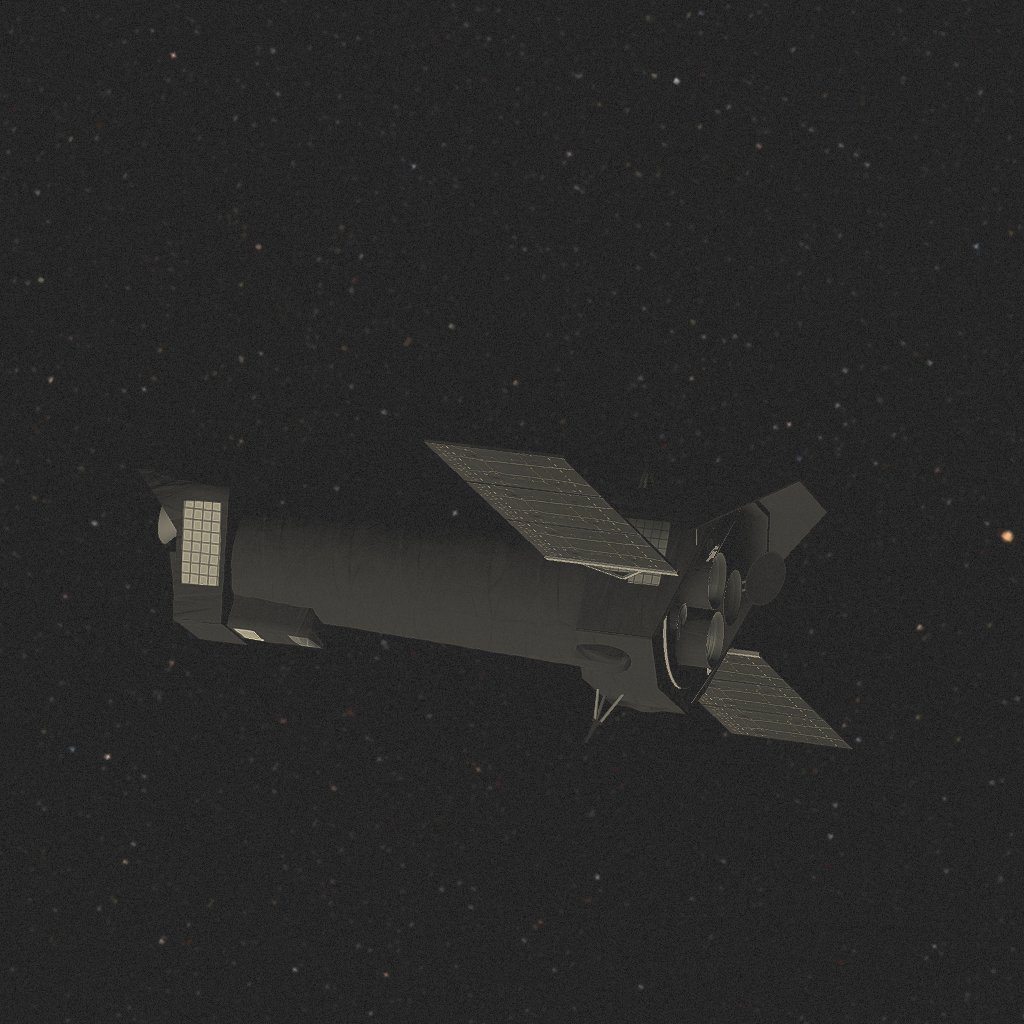xmm_newton: (135, 439, 853, 749)
